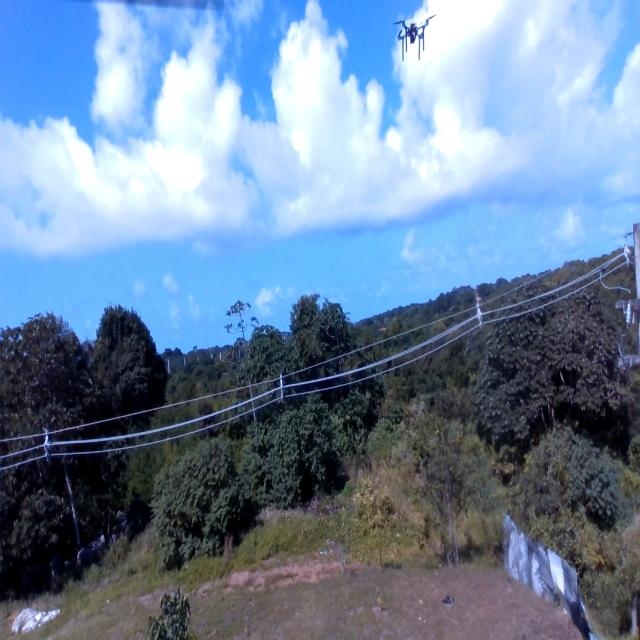-uav-: (389, 9, 440, 68)
